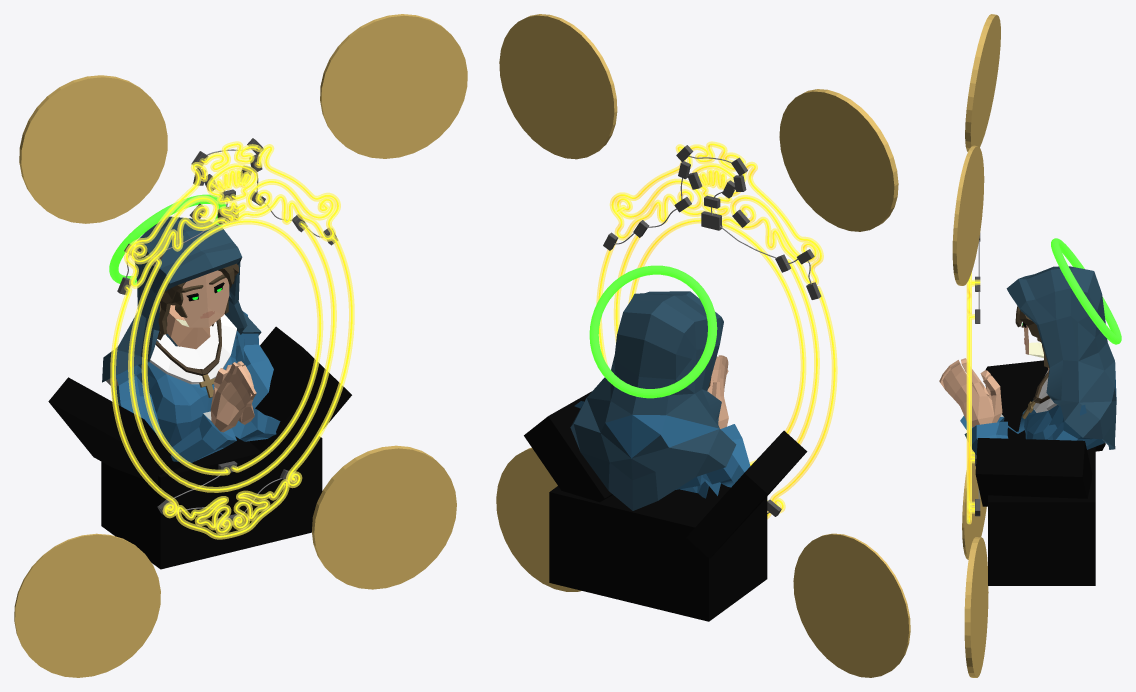
The model's file is mobile_angel_coins3.glb.
3 renders of one model, left to right at view 1: azimuth 30°, elevation 25°; view 2: azimuth 150°, elevation 25°; view 3: azimuth 270°, elevation 25°, orthographic. The views are drawn at different scales.
Parts seen in each view (by area): view 1: Glass, SK_Chr_Nun_01.007, Coin1, Cube, Coin3, Coin4, Coin2, Emissive, Cube.001, Cube.002, SK_Chr_Nun_01.015, Cubes (+3 smaller); view 2: SK_Chr_Nun_01.007, Cube, Glass, Coin3, Coin4, Coin1, Coin2, Cube.002, Emissive, Cube.001, Halo, Cubes (+1 smaller); view 3: SK_Chr_Nun_01.007, Cube, Cube.001, Coin3, Coin1, Coin2, Cube.002, Halo, Glass, Coin4, Emissive, SM_Chr_Hair_Female_06 (+2 smaller).
Part boxes in pixels (x1=…): Glass: x1=110, y1=141, x2=354, y2=539; SK_Chr_Nun_01.007: x1=102, y1=216, x2=280, y2=462; Coin1: x1=19, y1=75, x2=167, y2=223; Cube: x1=101, y1=435, x2=322, y2=569; Coin3: x1=320, y1=14, x2=467, y2=158; Coin4: x1=14, y1=533, x2=160, y2=677; Coin2: x1=312, y1=445, x2=456, y2=589; Emissive: x1=112, y1=143, x2=352, y2=537; Cube.001: x1=250, y1=326, x2=351, y2=470; Cube.002: x1=48, y1=377, x2=182, y2=484; SK_Chr_Nun_01.015: x1=149, y1=314, x2=236, y2=384; Cubes: x1=117, y1=138, x2=337, y2=528; SK_Chr_Nun_01.007: x1=570, y1=291, x2=750, y2=510; Cube: x1=549, y1=483, x2=767, y2=621; Glass: x1=596, y1=141, x2=837, y2=519; Coin3: x1=499, y1=14, x2=617, y2=159; Coin4: x1=793, y1=533, x2=910, y2=677; Coin1: x1=779, y1=89, x2=898, y2=231; Coin2: x1=496, y1=447, x2=581, y2=591; Cube.002: x1=686, y1=430, x2=807, y2=558; Emissive: x1=598, y1=143, x2=835, y2=516; Cube.001: x1=524, y1=391, x2=612, y2=502; Halo: x1=589, y1=265, x2=717, y2=398; Cubes: x1=603, y1=145, x2=821, y2=516; SK_Chr_Nun_01.007: x1=939, y1=266, x2=1116, y2=454; Cube: x1=988, y1=447, x2=1095, y2=585; Cube.001: x1=975, y1=438, x2=1092, y2=506; Coin3: x1=952, y1=145, x2=984, y2=285; Coin1: x1=965, y1=14, x2=1000, y2=151; Coin2: x1=964, y1=537, x2=988, y2=677; Cube.002: x1=985, y1=360, x2=1105, y2=451; Halo: x1=1051, y1=238, x2=1121, y2=344; Glass: x1=966, y1=272, x2=980, y2=524; Coin4: x1=962, y1=449, x2=986, y2=559; Emissive: x1=968, y1=278, x2=980, y2=522; SM_Chr_Hair_Female_06: x1=1015, y1=306, x2=1049, y2=367.
Bounding box in the file's own units: 1.5 × 1.95 × 0.5994.
Materials: 20 (2 with a texture image).
